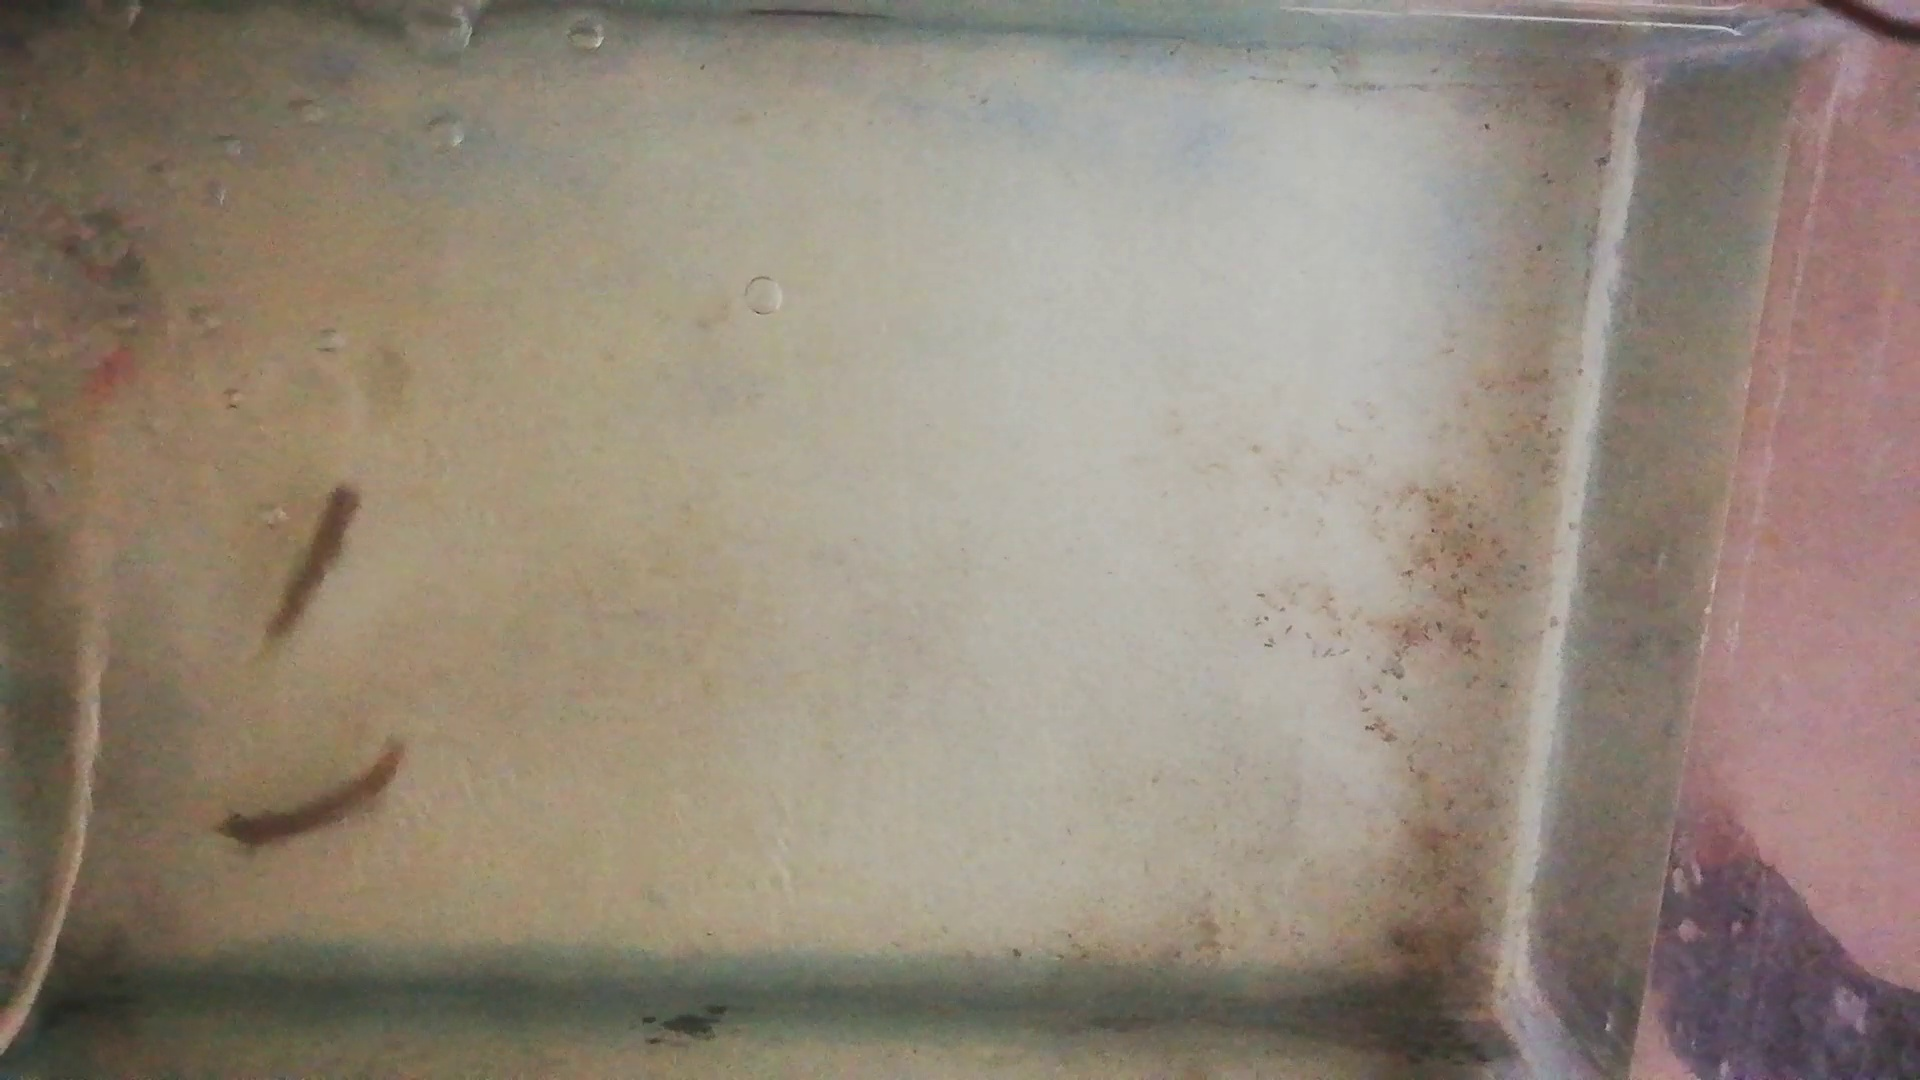fish: (218, 741, 404, 845), (268, 483, 364, 644)
